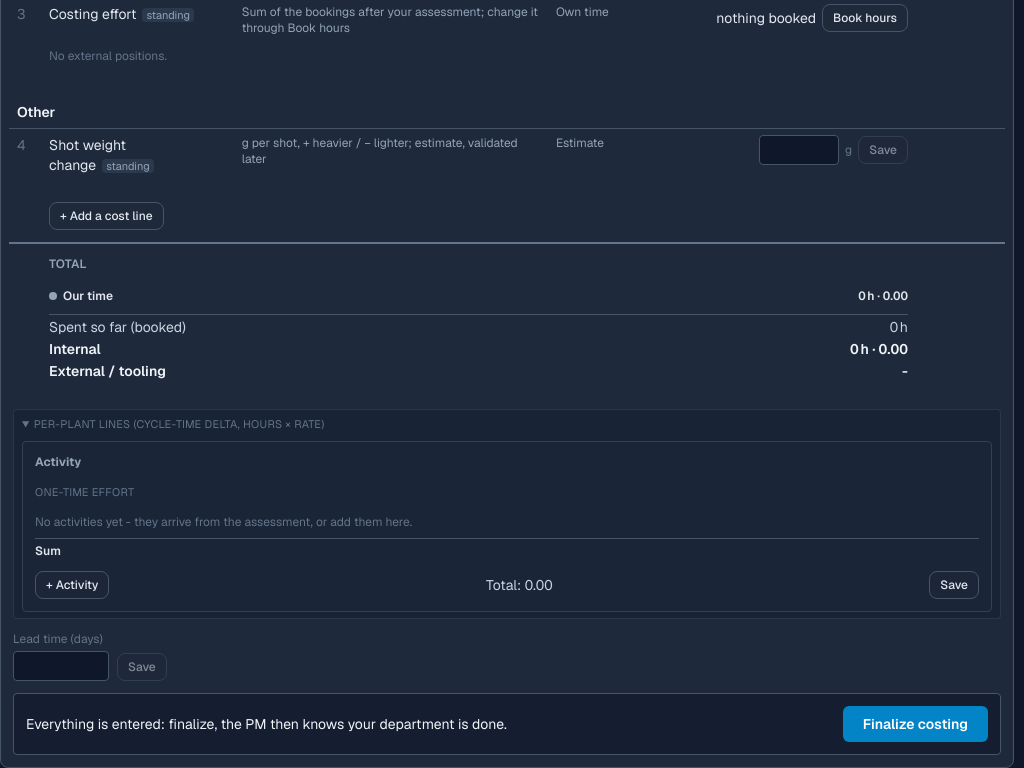
Test: FinalizeBar › nothing missing: one button at the end; confirm inline, Keep working changes nothing
(page scrolled)
Click the button with test id "costing-finalize-2" at [915, 724], box left=843, top=706, right=988, bottom=742
(page scrolled)
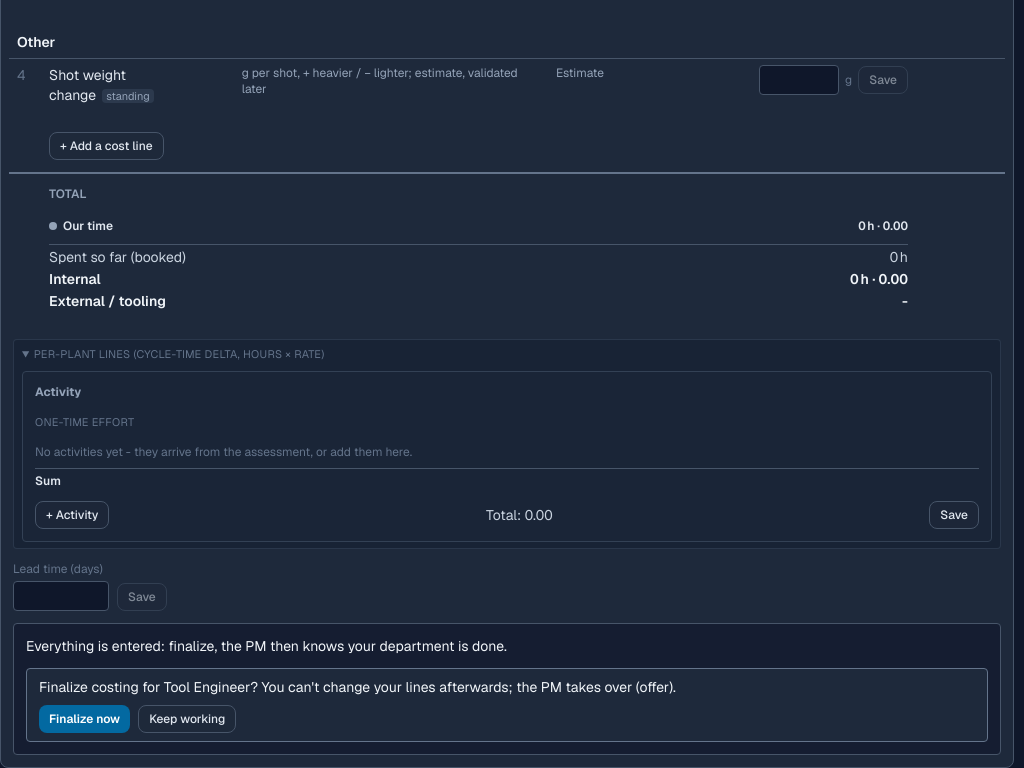
Check: the element with test id "costing-finalize-confirm-2" shows "Finalize costing for Tool Engineer? You can't change your lines afterwards; the PM takes over", box left=26, top=668, right=988, bottom=742
Click the button with test id "costing-keep-working-2" at [187, 718], box left=138, top=704, right=236, bottom=732
(page scrolled)
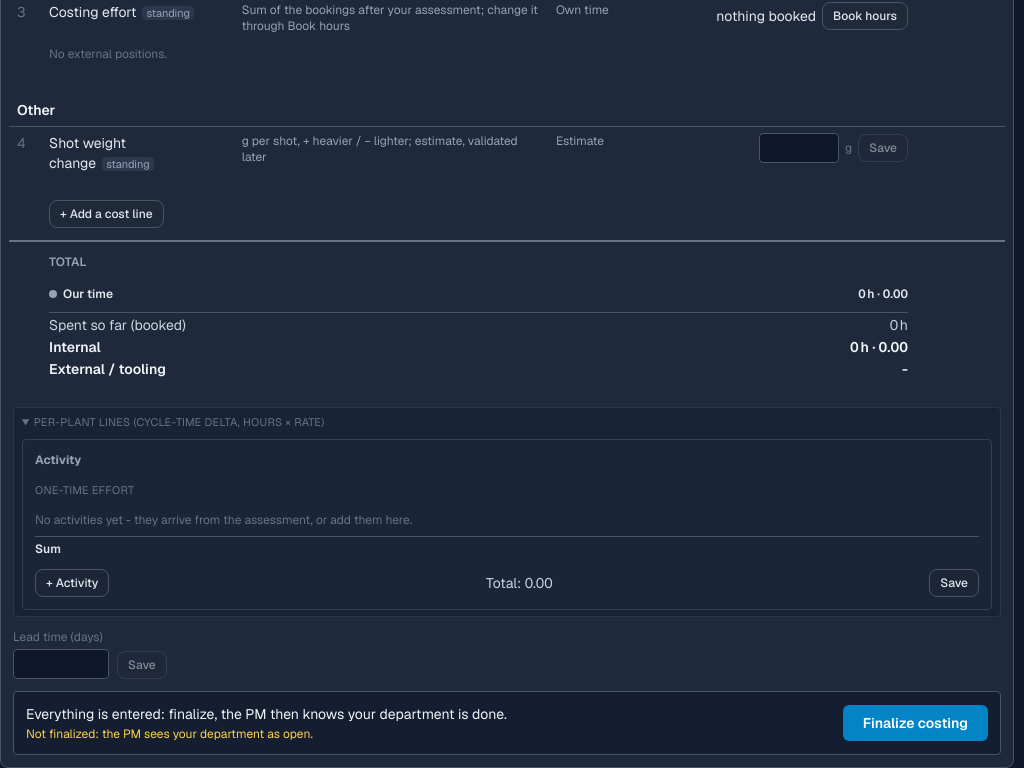
Check: the element with test id "costing-finalize-confirm-2" is gone
Check: the text with test id "costing-kept-working-2" shows "Not finalized: the PM sees your department as open", box left=26, top=726, right=313, bottom=742
